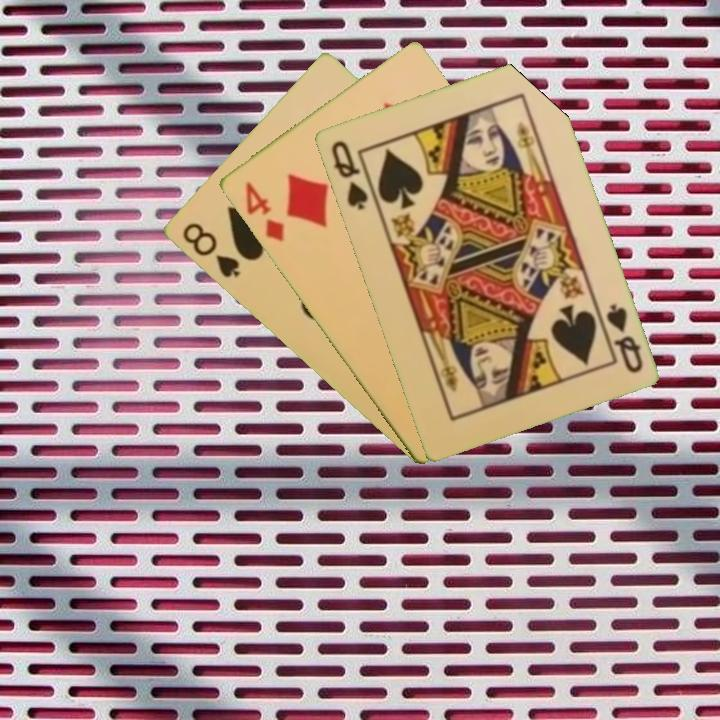4d: (241, 177, 287, 245)
8s: (178, 219, 243, 281)
Qs: (595, 300, 645, 376), (327, 136, 371, 213)
